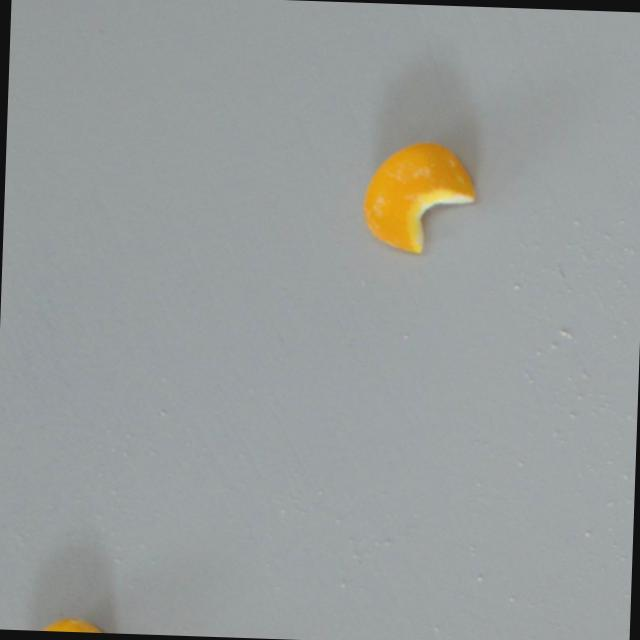pelicula: (359, 135, 477, 254), (18, 611, 117, 633)
